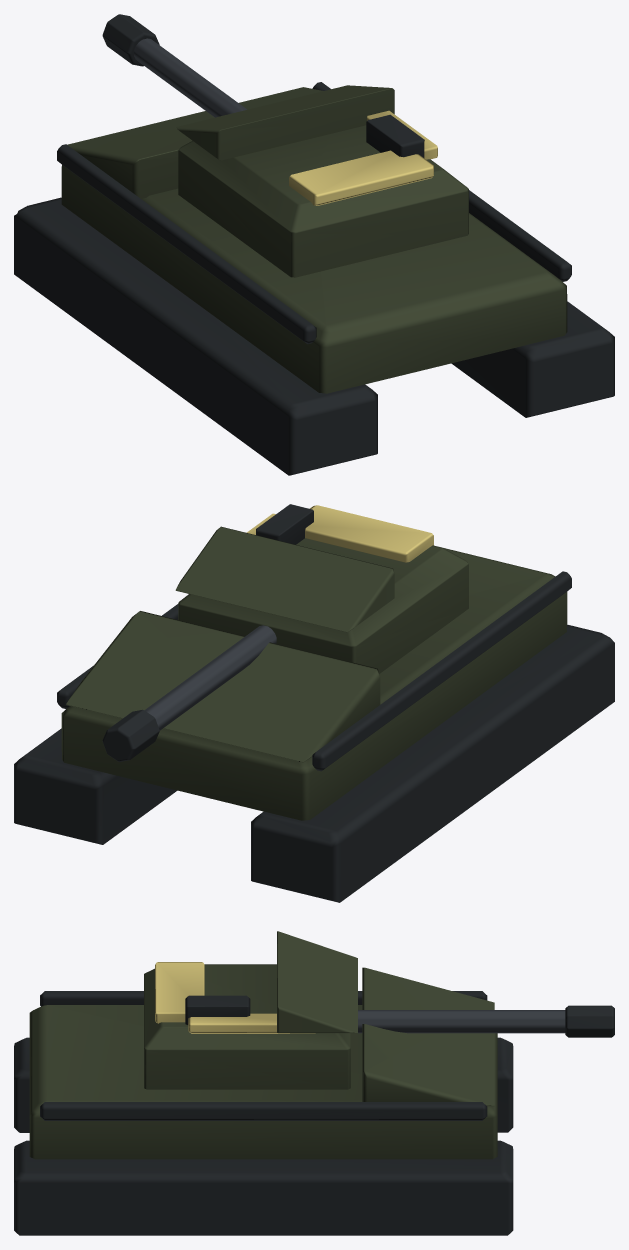
Rendered from main_battle_tank.glb.
The picture shows the model from 3 angles, top to bottom: view 1: azimuth 30°, elevation 25°; view 2: azimuth 150°, elevation 25°; view 3: azimuth 270°, elevation 25°; orthographic projection. The views are drawn at different scales.
Parts seen in each view (by area): view 1: Body, Turret; view 2: Body, Turret; view 3: Body, Turret.
Boxes of the visible parts, x1,y1,x2,y2 form: Body: (14, 82, 614, 475); Turret: (102, 14, 468, 277); Body: (14, 548, 614, 902); Turret: (102, 504, 468, 761); Body: (14, 967, 513, 1235); Turret: (144, 931, 614, 1089).
Size of the model in its own units: 2.84 by 1.84 by 5.08.
